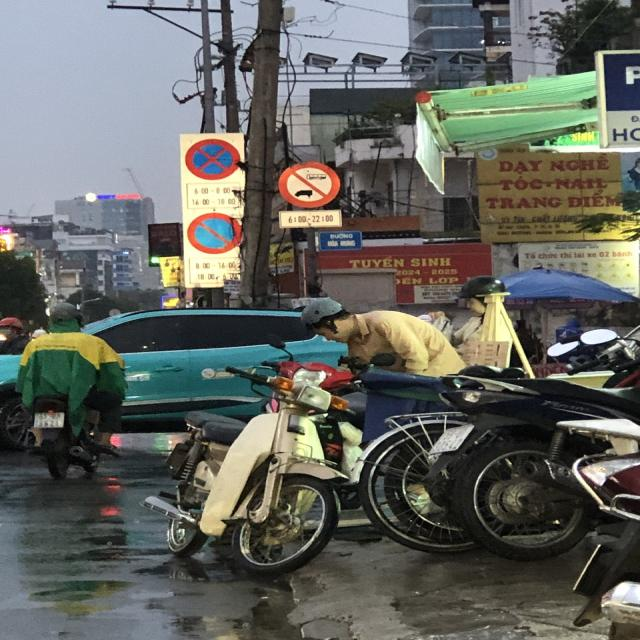Bien bao cam dung xe va do xe: (181, 137, 245, 183)
Bien bao cam xe oto khach va xe oto tai: (276, 159, 344, 210)
